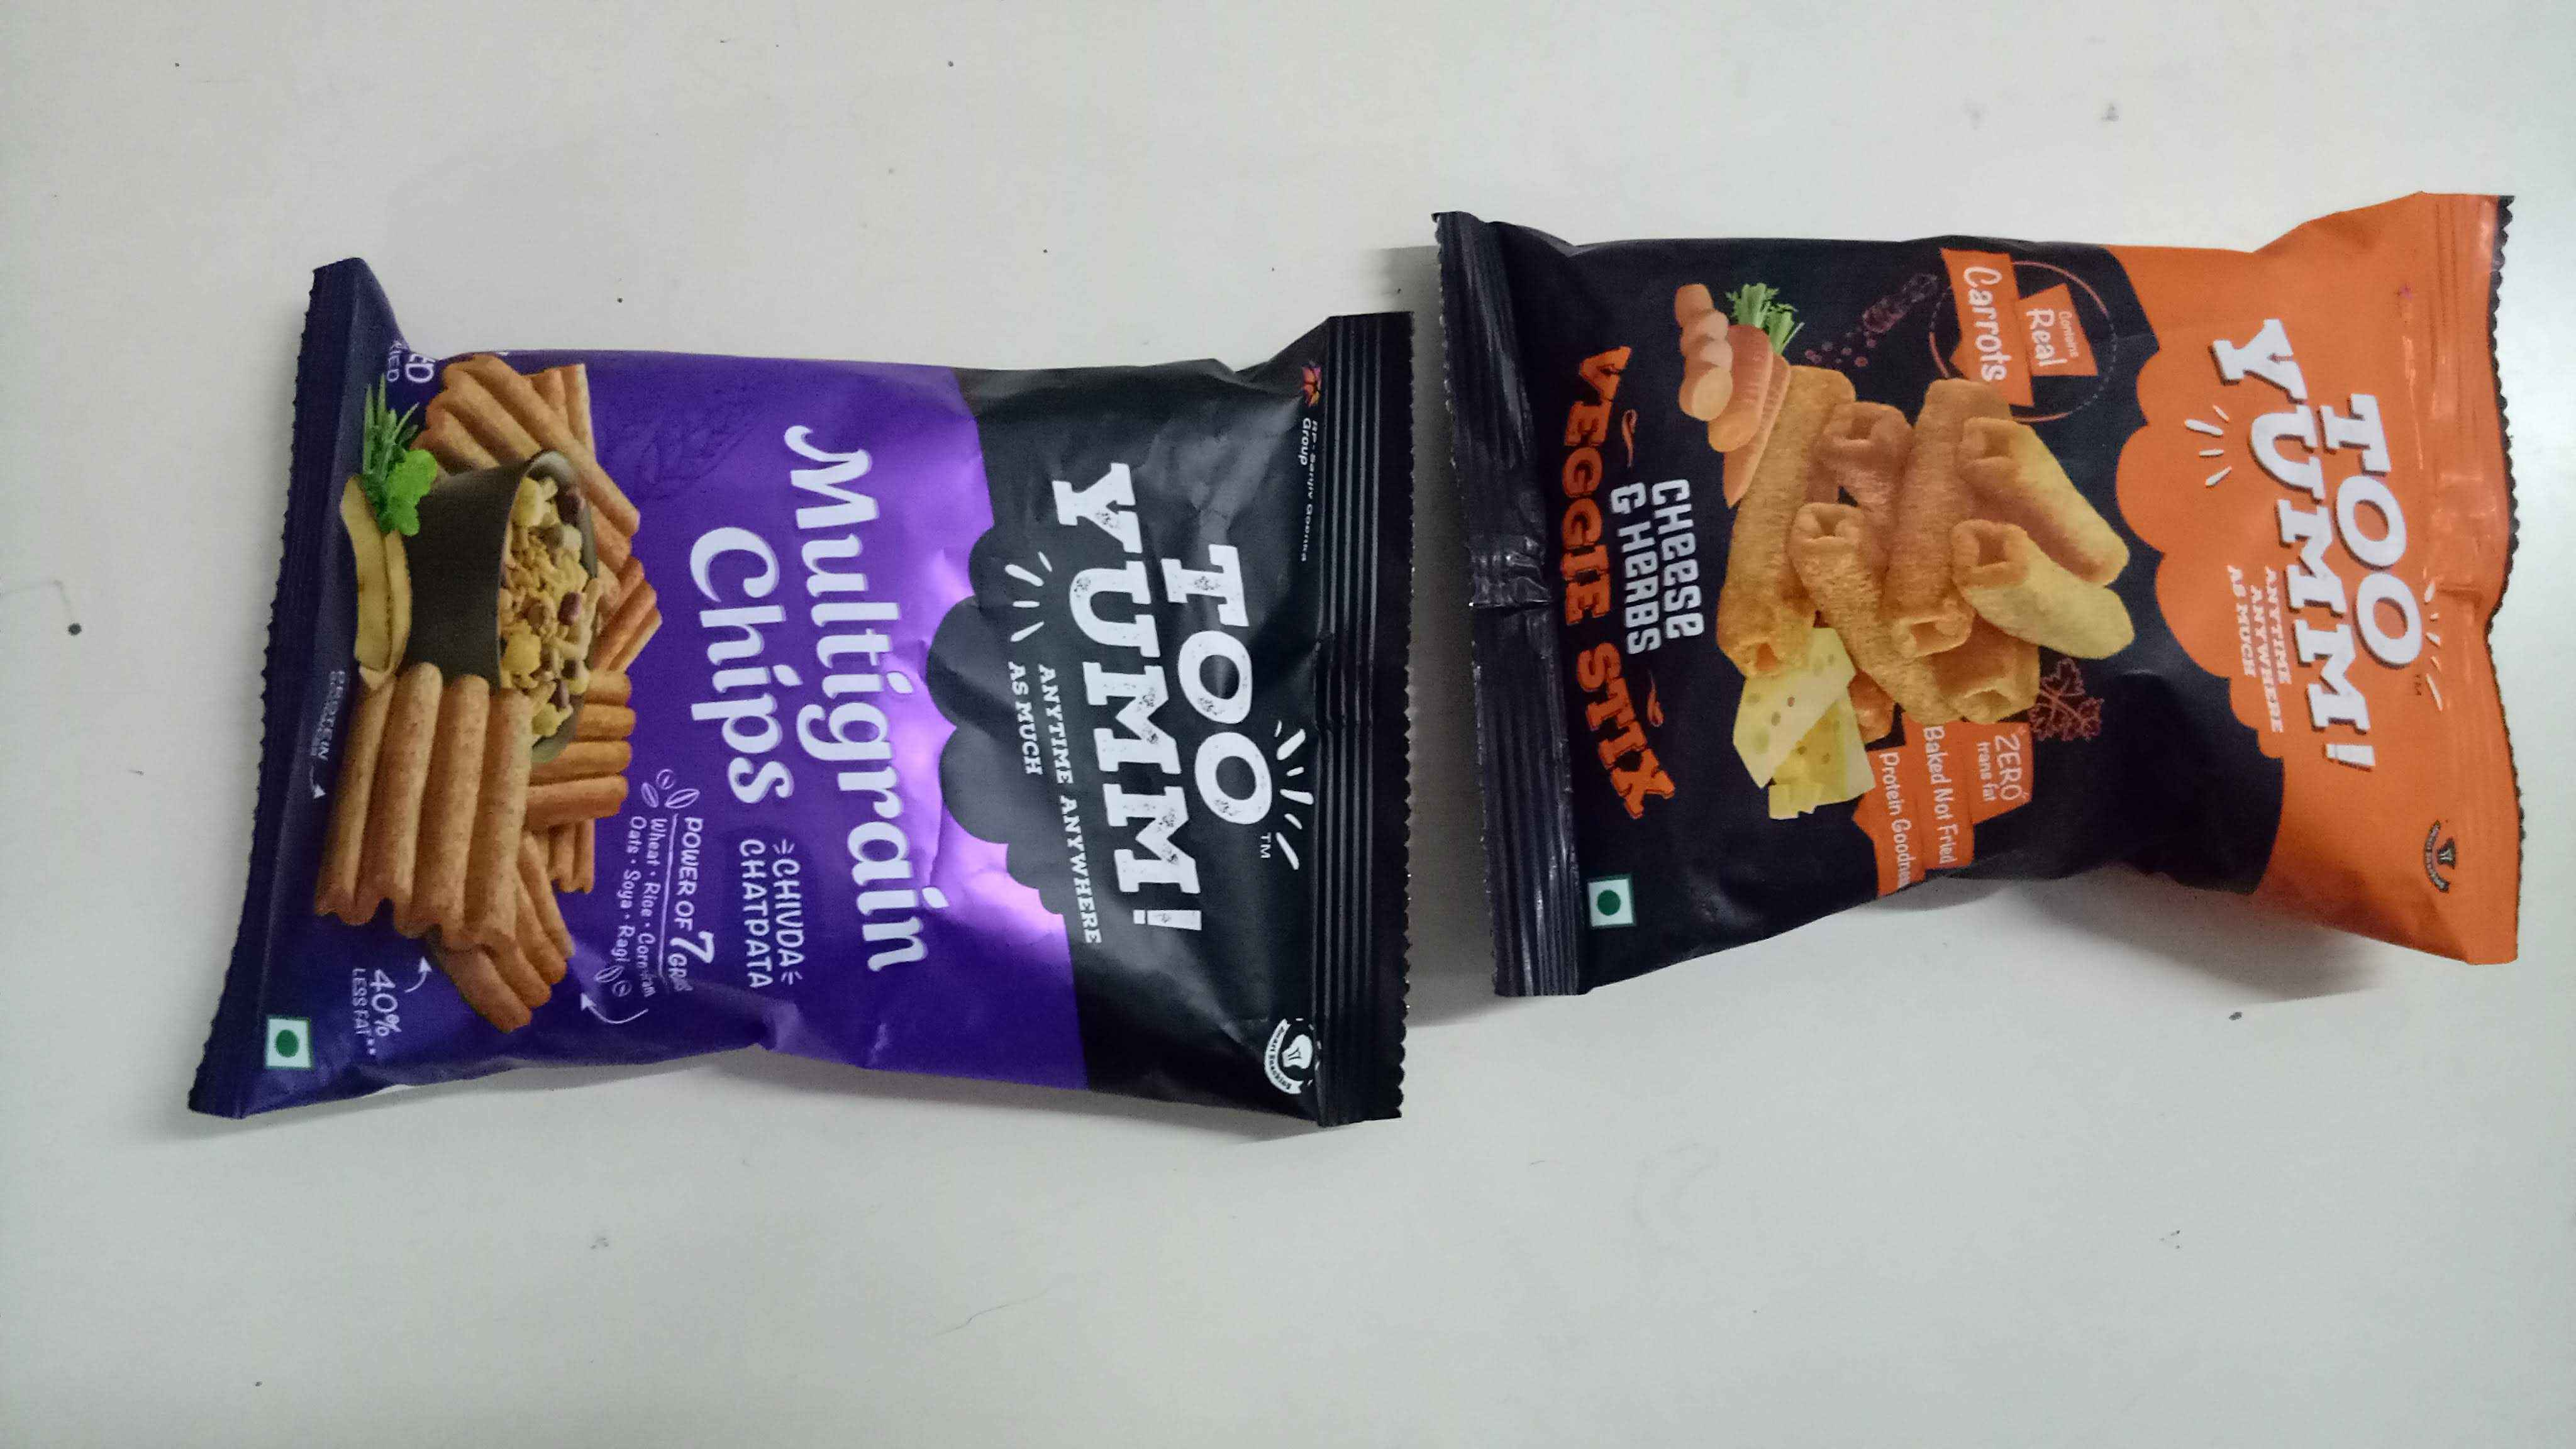tooyumm: (1019, 442, 1318, 941), (2213, 267, 2472, 803)
